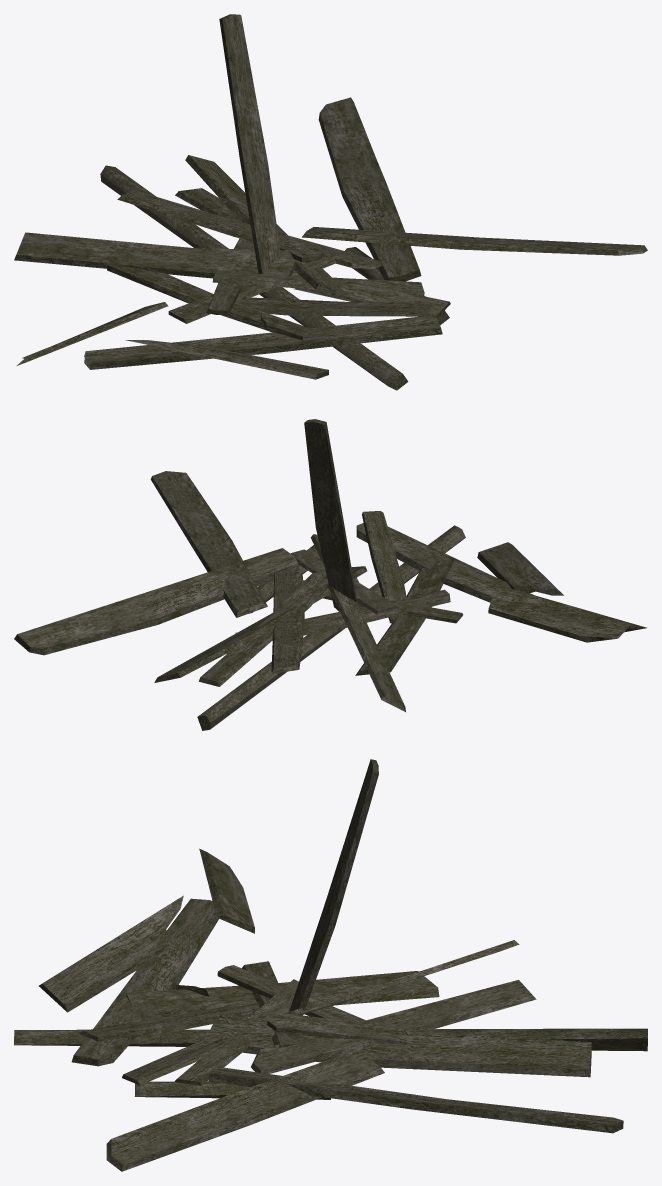
Rendered from Branch.FBX.
The picture shows the model from 3 angles, top to bottom: view 1: azimuth 30°, elevation 25°; view 2: azimuth 150°, elevation 25°; view 3: azimuth 270°, elevation 25°; orthographic projection. The views are drawn at different scales.
Visible parts, largest first — view 1: Branch_04, Branch_01, Branch_02, Branch_05, Branch_03; view 2: Branch_04, Branch_01, Branch_02, Branch_05, Branch_03; view 3: Branch_04, Branch_01, Branch_02, Branch_03, Branch_05, Branch_06.
Part boxes in pixels (x1,y1,x2,y2): Branch_04: (14, 97, 442, 379); Branch_01: (17, 188, 647, 365); Branch_02: (107, 190, 424, 340); Branch_05: (219, 14, 280, 293); Branch_03: (100, 165, 408, 390); Branch_04: (14, 511, 563, 711); Branch_01: (150, 471, 646, 686); Branch_02: (235, 549, 453, 675); Branch_05: (304, 419, 356, 610); Branch_03: (197, 525, 465, 730); Branch_04: (39, 895, 623, 1133); Branch_01: (106, 848, 454, 1171); Branch_02: (125, 965, 536, 1085); Branch_03: (14, 1028, 647, 1051); Branch_05: (289, 759, 378, 1015); Branch_06: (134, 1081, 330, 1099).
Bounding box in the file's own units: 8.47 × 3.54 × 7.11.
1 material, 1 textured.
